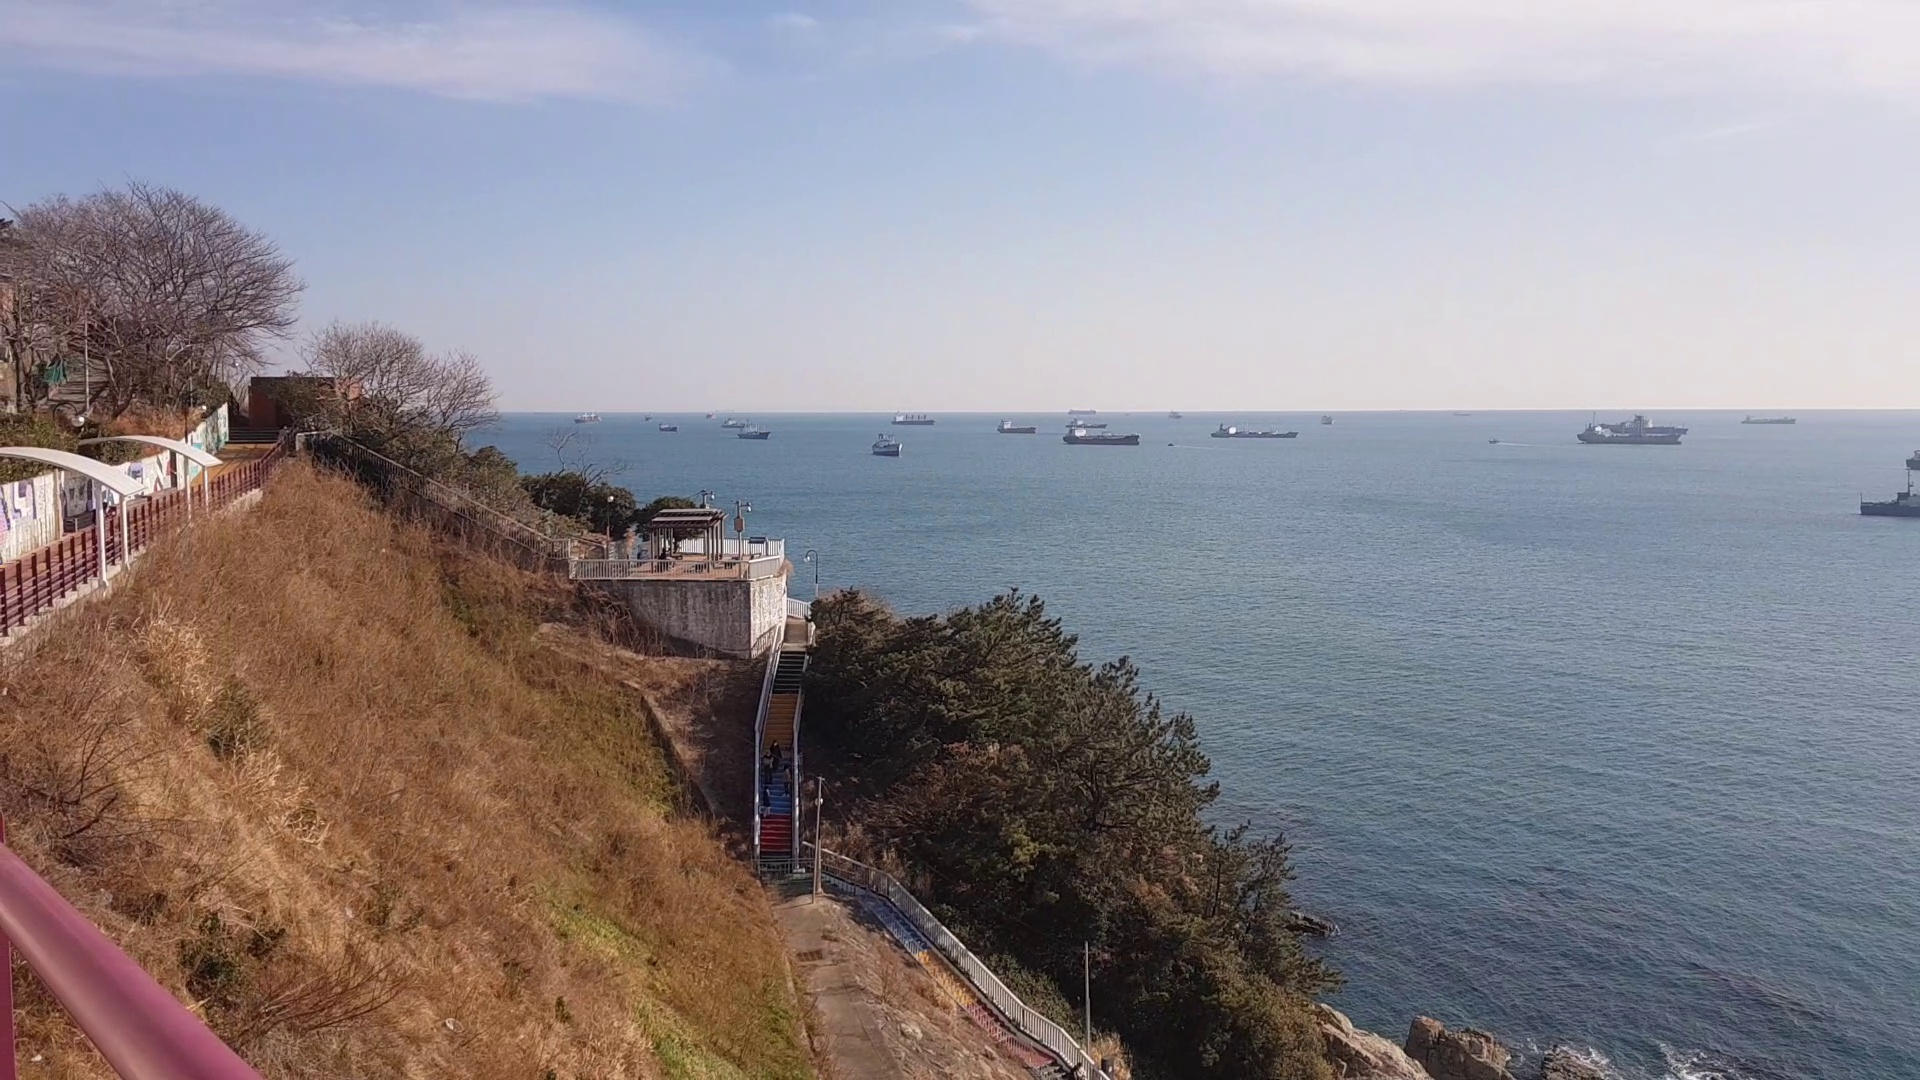Bulk_Carrier: (1571, 422, 1689, 446), (1052, 429, 1138, 444), (869, 436, 899, 454)
